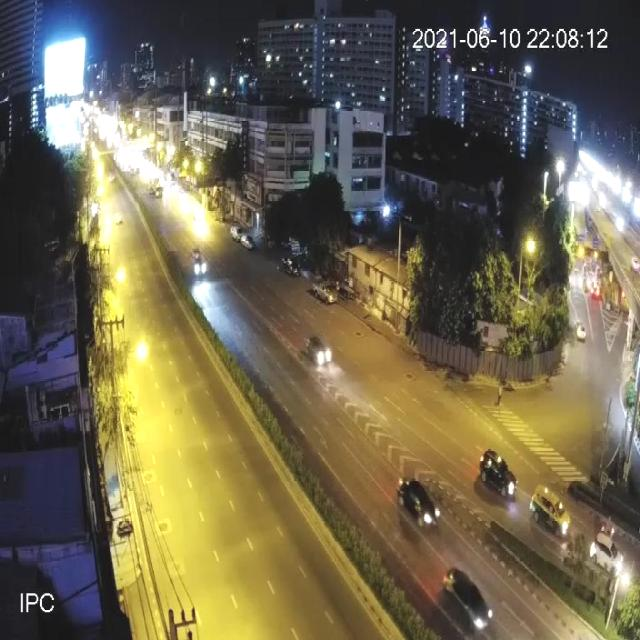Car: (433, 570, 499, 640), (395, 474, 441, 538), (526, 480, 572, 540), (476, 445, 516, 506), (589, 528, 625, 576), (301, 331, 333, 372), (312, 278, 340, 307), (280, 252, 300, 280), (574, 320, 590, 346), (113, 210, 124, 227)
Truck: (146, 175, 165, 200)
Van: (187, 246, 207, 278)
